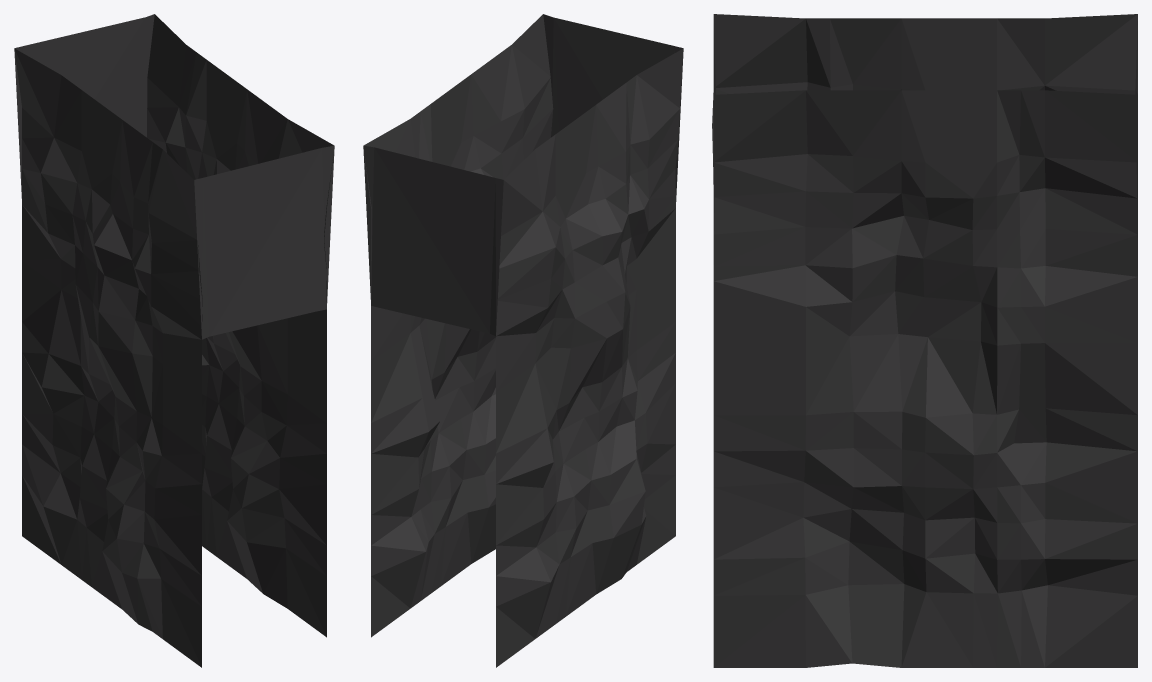
The model's file is Cave_8B.fbx.
3 renders of one model, left to right at view 1: azimuth 30°, elevation 25°; view 2: azimuth 150°, elevation 25°; view 3: azimuth 270°, elevation 25°, orthographic. The views are drawn at different scales.
Visible parts, largest first — view 1: polySurface8; view 2: polySurface8; view 3: polySurface8.
Boxes of the visible parts, left/top/right/bottom form: polySurface8: left=14, top=14, right=334, bottom=667; polySurface8: left=363, top=14, right=683, bottom=667; polySurface8: left=712, top=14, right=1137, bottom=667.
Size of the model in its own units: 10.26 by 30 by 20.04.
